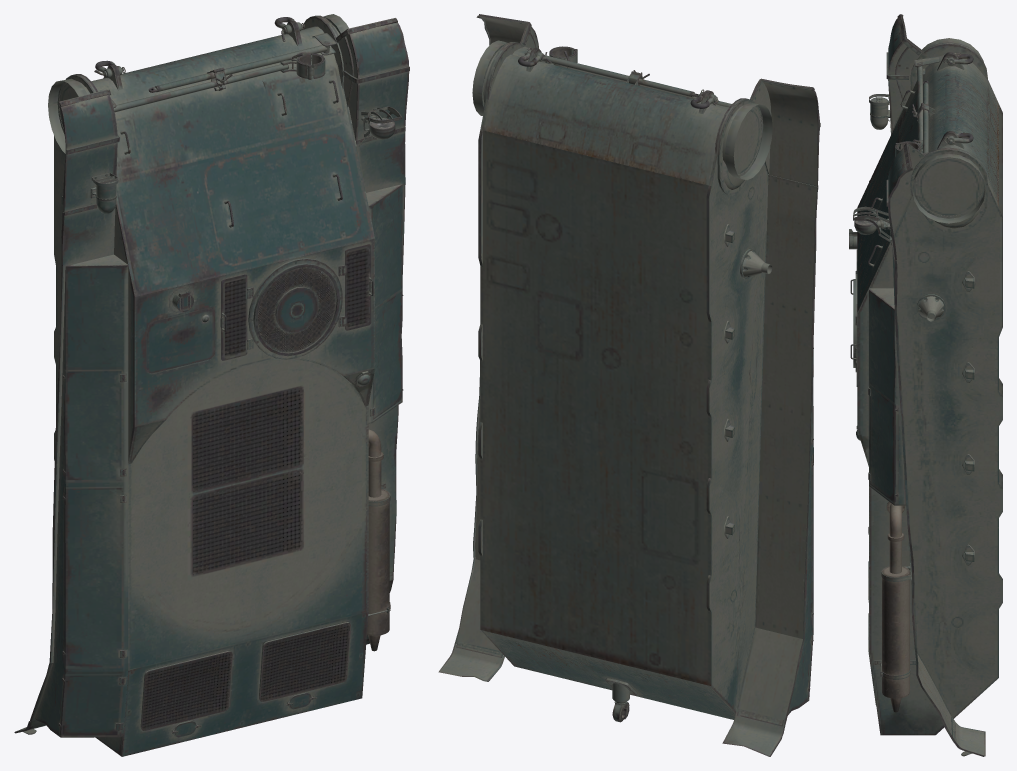
The model's file is Hull.glb.
The picture shows the model from 3 angles, left to right: view 1: azimuth 30°, elevation 25°; view 2: azimuth 150°, elevation 25°; view 3: azimuth 270°, elevation 25°; orthographic projection. The views are drawn at different scales.
Parts seen in each view (by area): view 1: set_0_group_0; view 2: set_0_group_0; view 3: set_0_group_0.
Boxes of the visible parts, left/top/right/bottom form: set_0_group_0: left=14, top=14, right=409, bottom=756; set_0_group_0: left=438, top=14, right=820, bottom=756; set_0_group_0: left=849, top=14, right=1002, bottom=756.
Size of the model in its own units: 2.49 by 4.69 by 1.07.
1 material, 1 textured.
